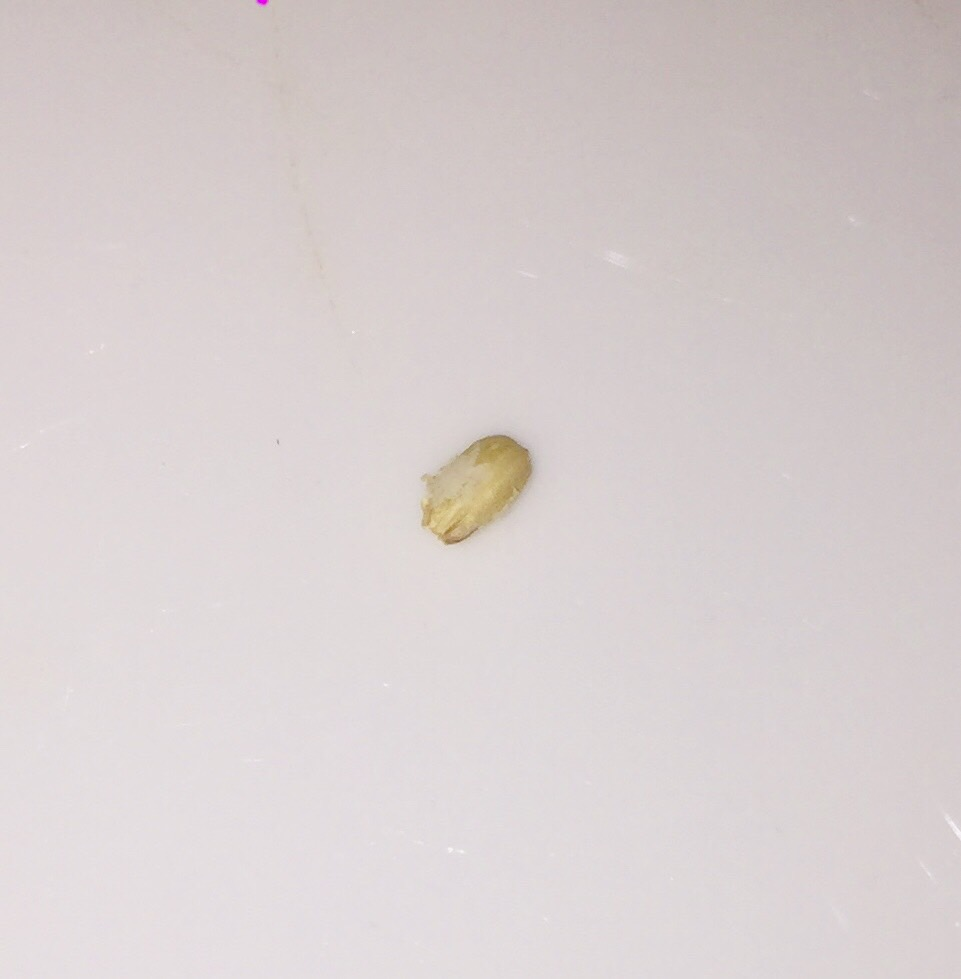Gao Lut Bac: (411, 414, 542, 556)
